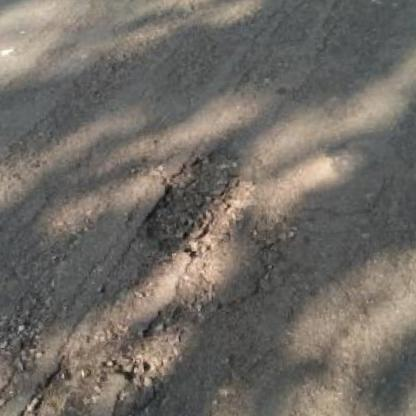pothole: (131, 141, 266, 266)
